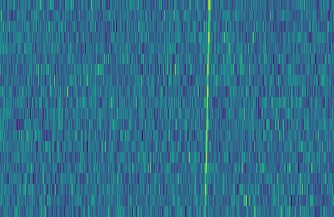signal: (201, 0, 214, 217)
